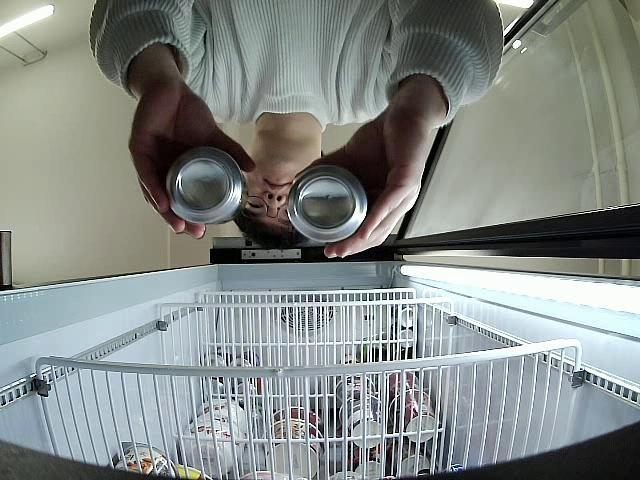12_chilsungCider: (163, 145, 249, 228), (284, 164, 370, 244)
